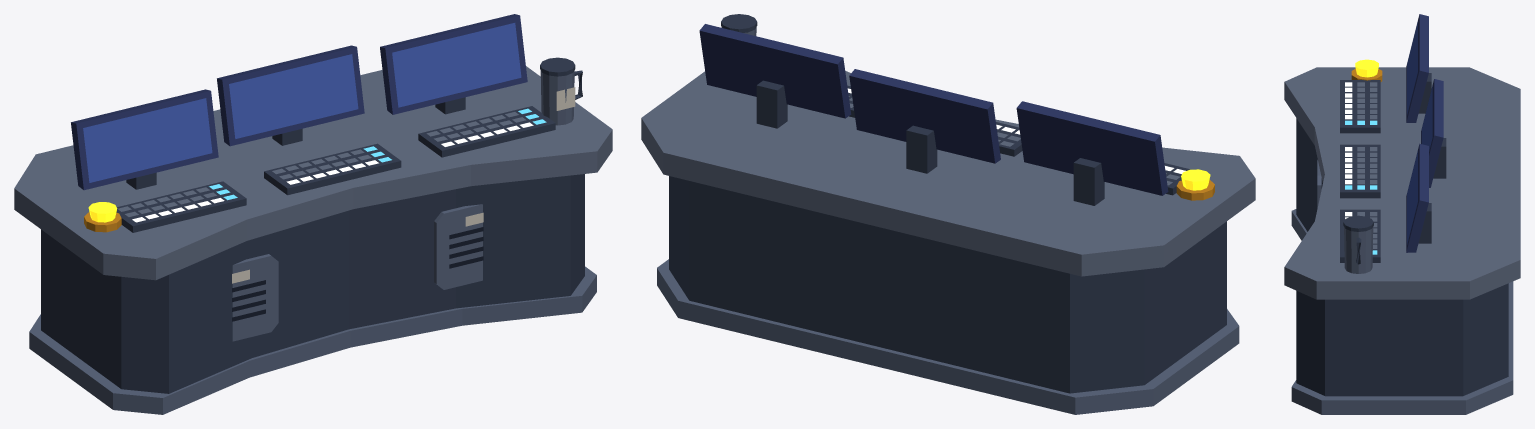
File: lab_mainframe_console.glb
The picture shows the model from 3 angles, left to right: view 1: azimuth 30°, elevation 25°; view 2: azimuth 150°, elevation 25°; view 3: azimuth 270°, elevation 25°; orthographic projection. The views are drawn at different scales.
Visible parts, largest first — view 1: display_stand, desktop, plinth, print.002, display, print.003, cooling_slot, key.016; view 2: display_stand, desktop, display, plinth; view 3: desktop, display_stand, plinth, display, print.002, key.016, print.003, stop_button, key.007.
Part boxes in pixels (x1,y1,x2,y2): display_stand: (41, 57, 584, 393); desktop: (14, 66, 612, 280); plinth: (29, 70, 596, 414); print.002: (83, 23, 521, 182); display: (71, 14, 527, 190); print.003: (229, 54, 358, 138); cooling_slot: (232, 227, 483, 321); key.016: (132, 122, 533, 222); display_stand: (669, 14, 1226, 393); desktop: (641, 71, 1255, 276); display: (699, 24, 1168, 195); plinth: (657, 27, 1239, 414); desktop: (1284, 67, 1520, 299); display_stand: (1296, 73, 1508, 396); plinth: (1291, 160, 1513, 414); display: (1406, 14, 1443, 252); print.002: (1407, 21, 1432, 244); key.016: (1345, 82, 1352, 218); print.003: (1421, 86, 1432, 150); stop_button: (1355, 59, 1378, 77); key.007: (1345, 120, 1377, 254).
Size of the model in its own units: 3 by 1.35 by 1.4.
